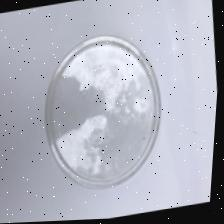plastic: (46, 37, 163, 189)
